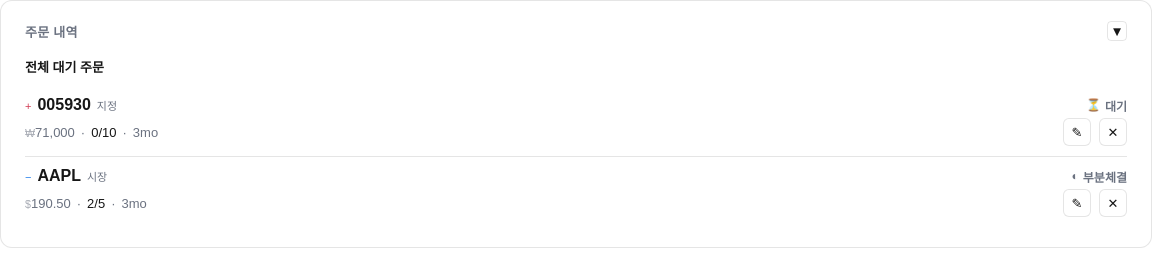
Test: OrdersTable › isolates actions per card (cancel on one card only)
Click the button named "취소".
click(1113, 132)  # box [1099,118,1127,146]
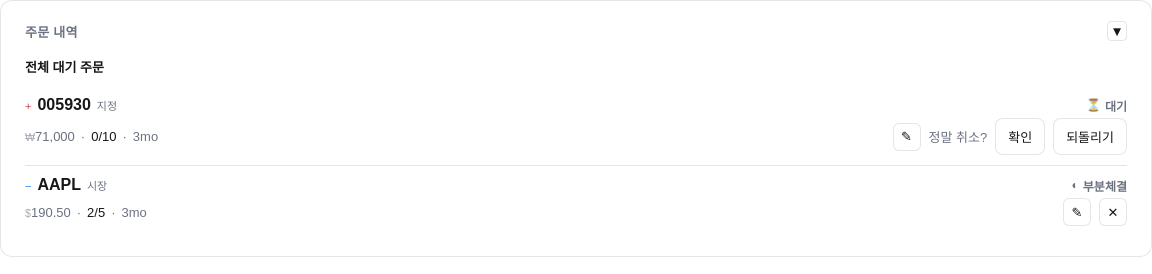
Result: the text "정말 취소?" is shown once at [928,127,987,146]
